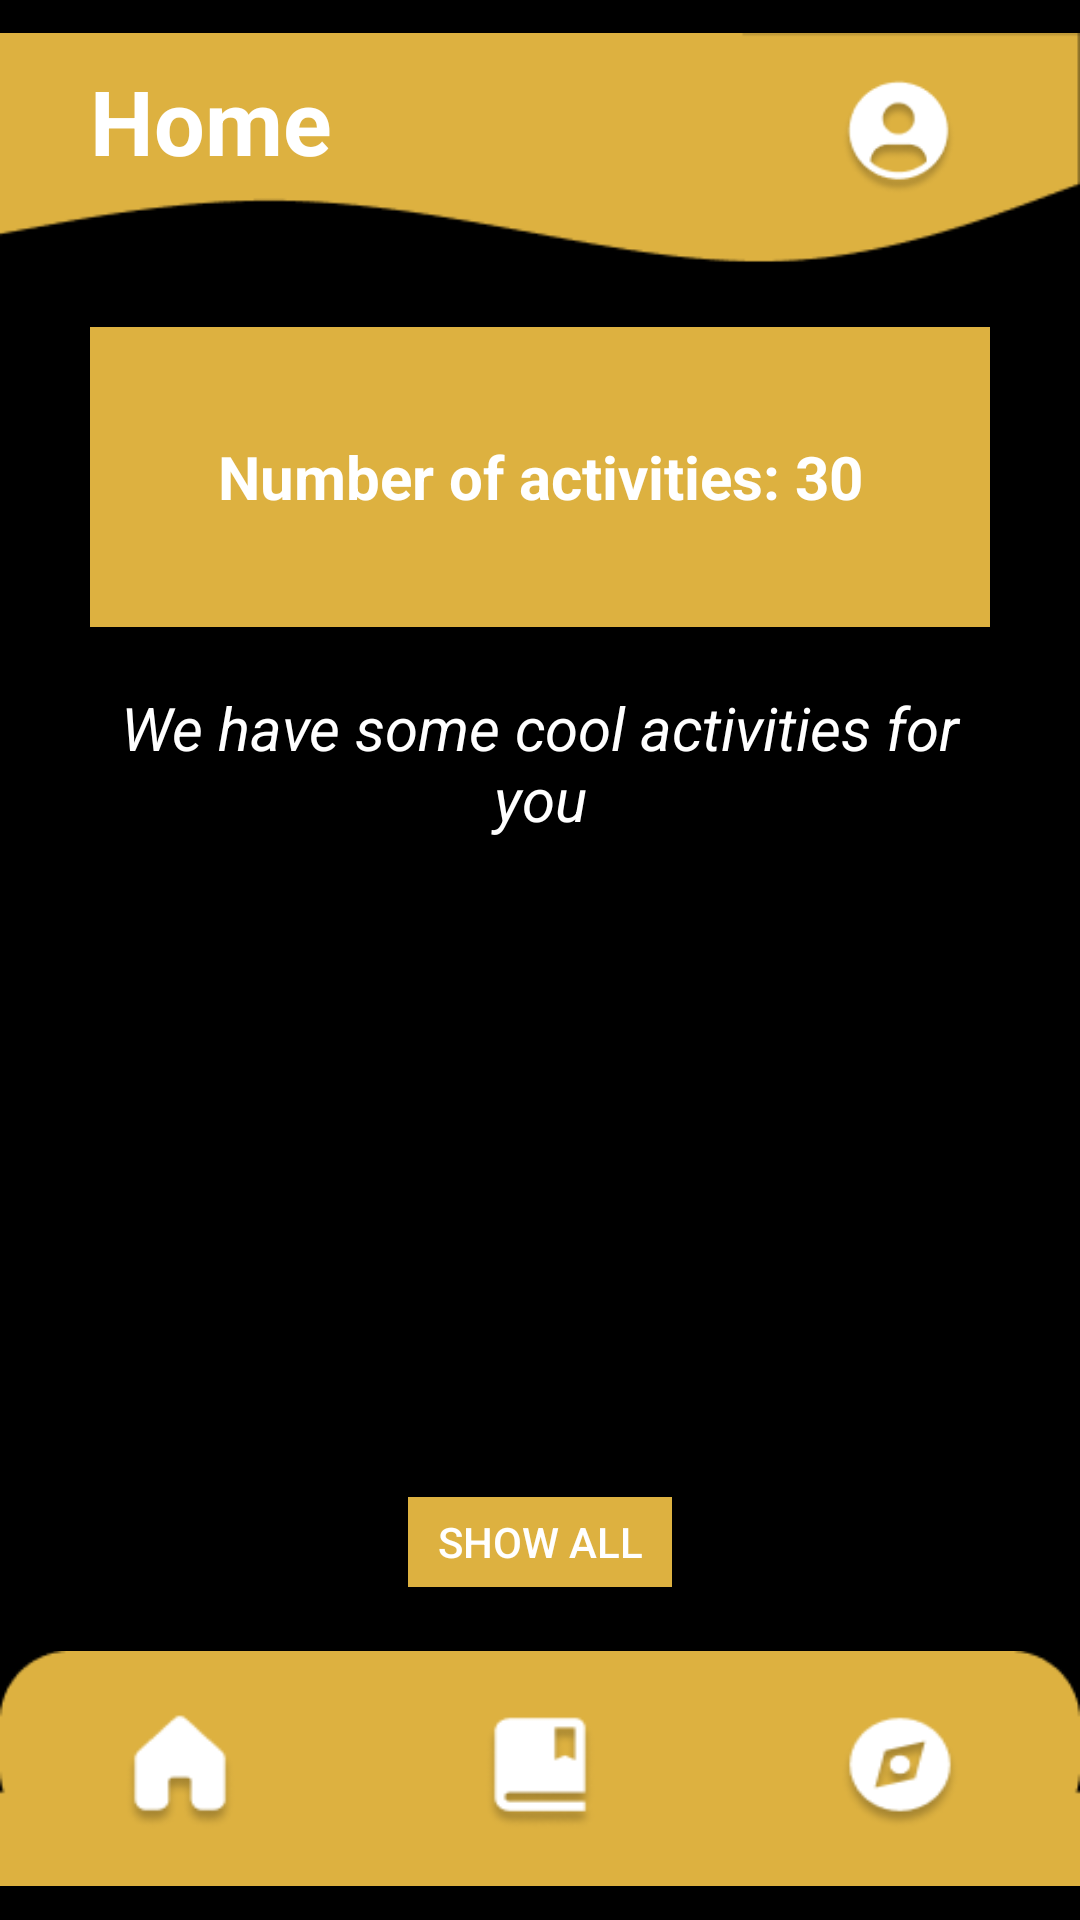

Icons on this 1080w x 1920h Android screen, each with its box as (x1, y1, x2, y2):
explore: (849, 1717, 951, 1820)
home: (134, 1715, 226, 1820)
